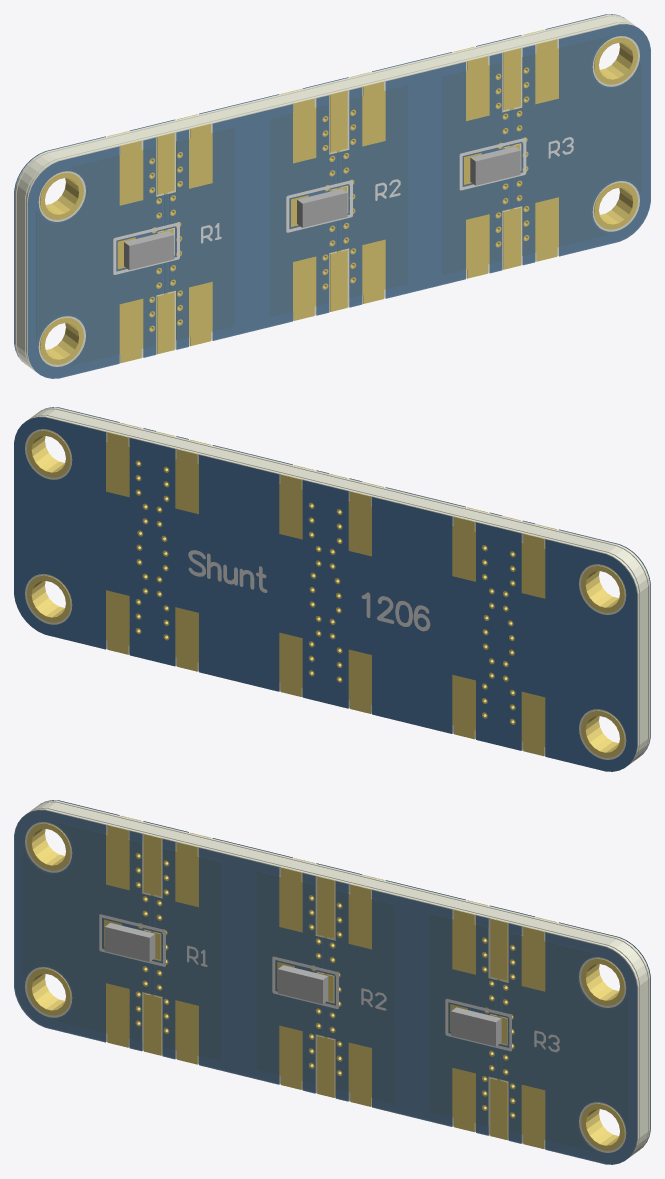
The model's file is board1.glb.
3 renders of one model, top to bottom at view 1: azimuth 30°, elevation 25°; view 2: azimuth 150°, elevation 25°; view 3: azimuth 330°, elevation 25°, orthographic.
Visible parts, largest first — view 1: Solder_Top, GND, X?, Core.1, Core, Pad, Top, Core.2, ComponentBody.1, ComponentBody, ComponentBody.2, Solder_Bottom; view 2: Solder_Bottom, GND, X?, Core.1, Pad, Core.2, Core, Bottom, Solder_Top; view 3: Solder_Top, X?, GND, Core.1, Core, Pad, Top, Core.2, ComponentBody.2, ComponentBody, ComponentBody.1, Solder_Bottom.
Boxes of the visible parts, left/top/right/bottom form: Solder_Top: left=27, top=24, right=650, bottom=378; GND: left=117, top=48, right=558, bottom=353; X?: left=107, top=29, right=557, bottom=362; Core.1: left=16, top=16, right=634, bottom=371; Core: left=25, top=22, right=639, bottom=373; Pad: left=40, top=37, right=637, bottom=364; Top: left=113, top=137, right=573, bottom=274; Core.2: left=14, top=14, right=626, bottom=362; ComponentBody.1: left=297, top=189, right=347, bottom=227; ComponentBody: left=470, top=146, right=520, bottom=185; ComponentBody.2: left=124, top=231, right=174, bottom=269; Solder_Bottom: left=14, top=14, right=623, bottom=361; Solder_Bottom: left=14, top=417, right=637, bottom=771; GND: left=106, top=441, right=545, bottom=747; X?: left=107, top=423, right=556, bottom=756; Core.1: left=29, top=409, right=647, bottom=764; Pad: left=27, top=430, right=624, bottom=757; Core.2: left=25, top=415, right=639, bottom=765; Core: left=38, top=407, right=650, bottom=755; Bottom: left=188, top=550, right=430, bottom=631; Solder_Top: left=41, top=407, right=650, bottom=754; Solder_Top: left=14, top=810, right=637, bottom=1164; X?: left=107, top=815, right=557, bottom=1148; GND: left=104, top=834, right=545, bottom=1139; Core.1: left=30, top=802, right=648, bottom=1157; Core: left=25, top=808, right=639, bottom=1159; Pad: left=27, top=823, right=624, bottom=1150; Top: left=99, top=914, right=559, bottom=1052; Core.2: left=38, top=800, right=650, bottom=1148; ComponentBody.2: left=104, top=923, right=155, bottom=961; ComponentBody: left=451, top=1007, right=501, bottom=1046; ComponentBody.1: left=278, top=965, right=328, bottom=1004; Solder_Bottom: left=41, top=800, right=650, bottom=1147.
Size of the model in its own units: 4.57 by 1.52 by 0.2477.
